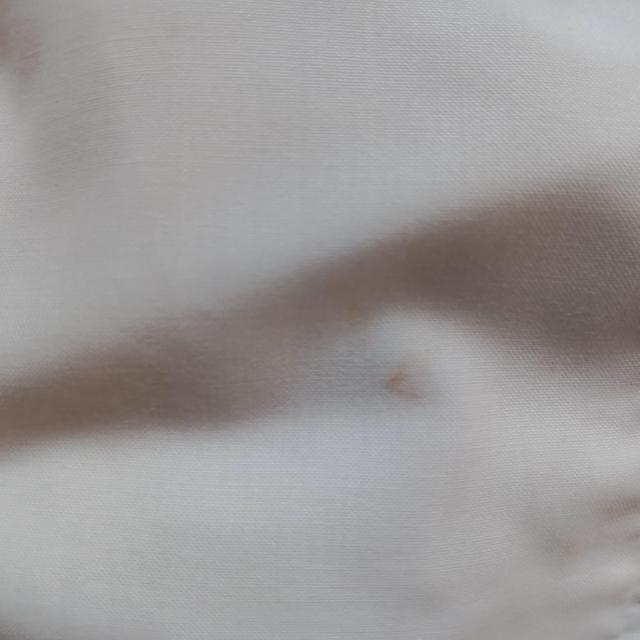stain: (370, 346, 444, 408)
